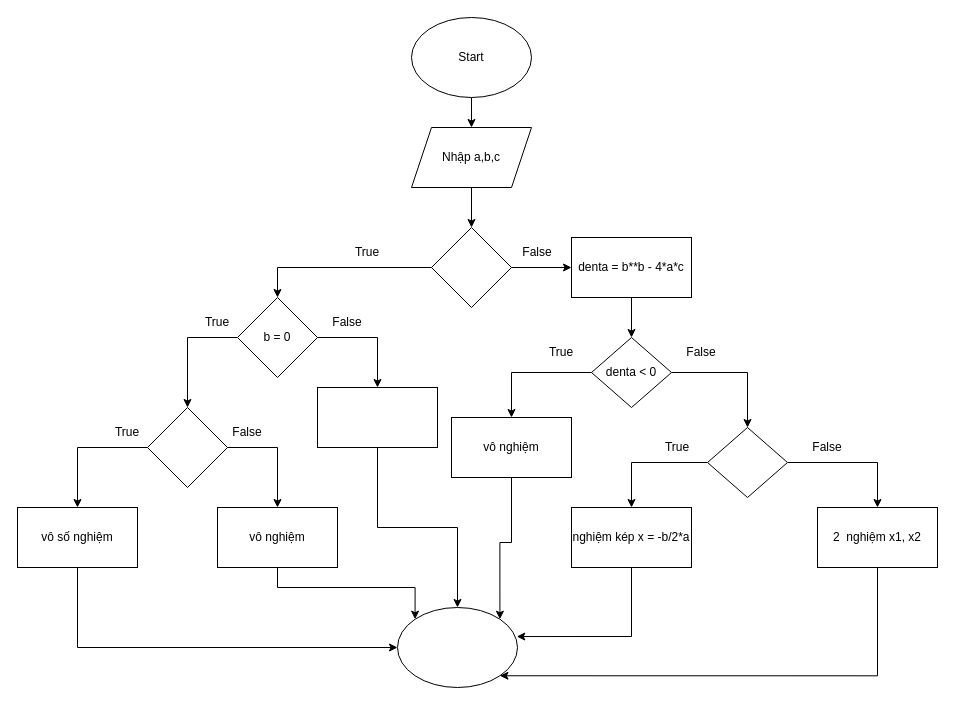
The diagram is 955 pixels wide and 705 high, and some of its shapes have lost their labels. The shapes that lost their labels are listed below. From the top down, each one's box as (x1, y1, x2, y2) in pixels, then its label:
(430, 226, 512, 308): a =0
(316, 386, 438, 448): nghiệm x = -c/b
(146, 406, 228, 488): c = 0
(706, 426, 788, 498): denta == 0
(396, 606, 518, 688): End
